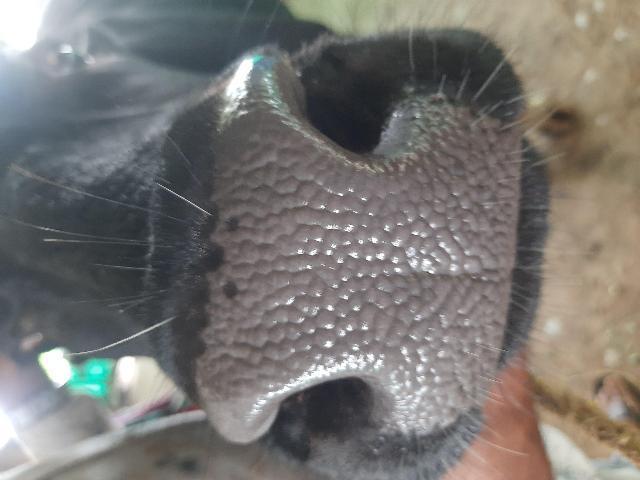Muzzle: (203, 122, 525, 400)
